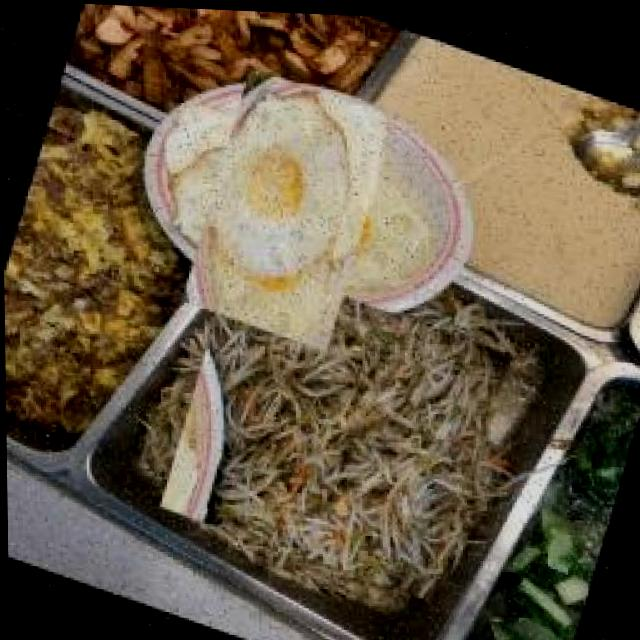fried_eggs: (161, 79, 414, 337)
mung_bean_sprouts: (160, 247, 512, 608)
